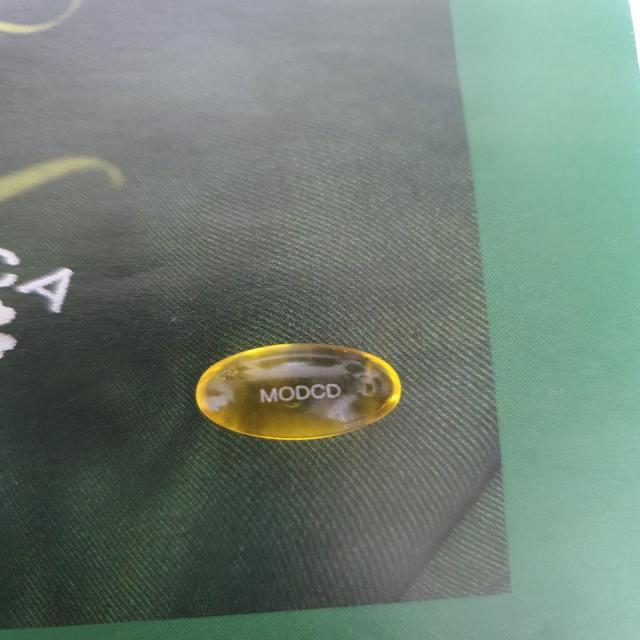pill: (192, 331, 404, 446)
